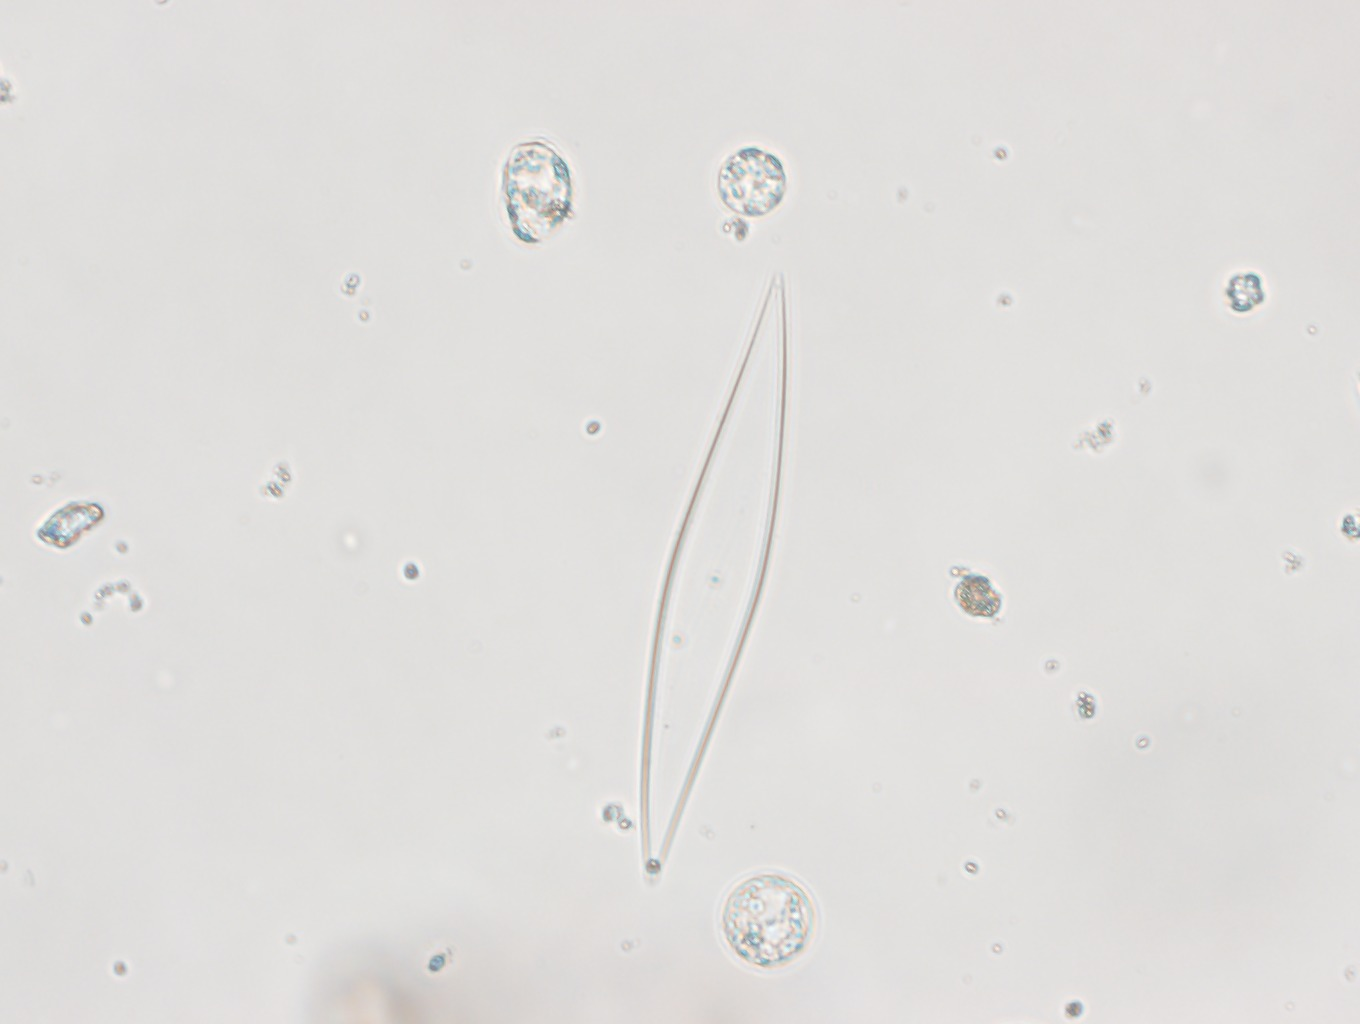pleurosigma pelagicum: (640, 267, 787, 880)
